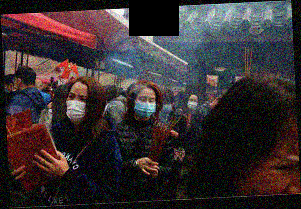with_mask: (64, 90, 88, 125), (133, 94, 157, 121), (186, 96, 199, 112), (160, 102, 173, 114)
